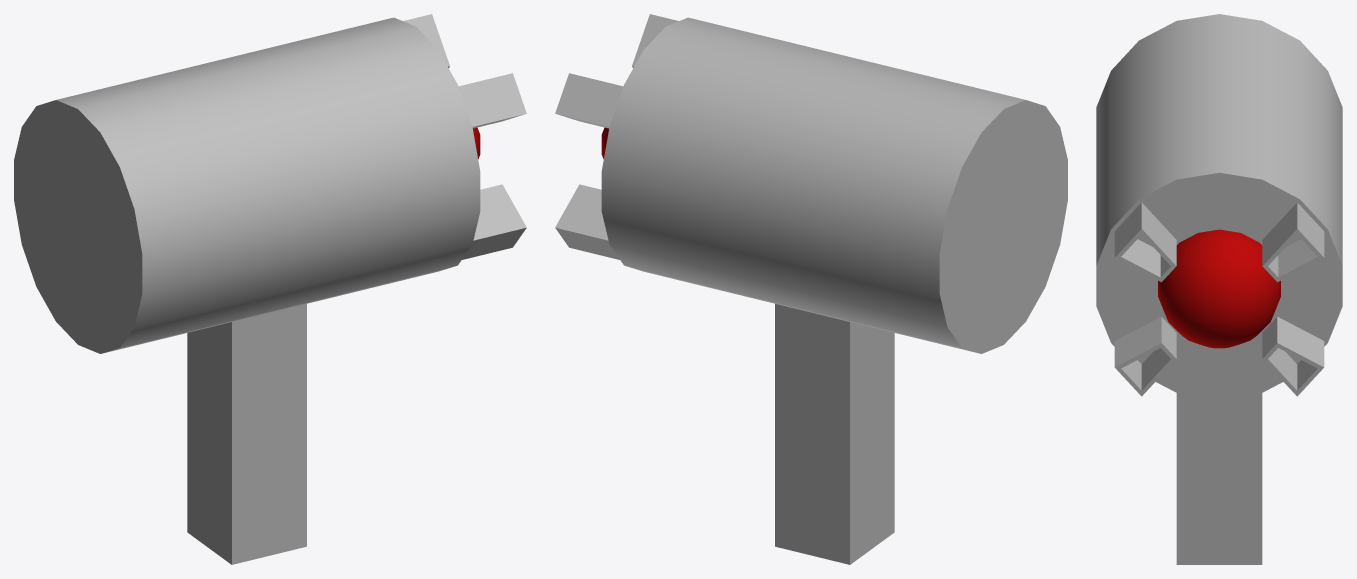
File: 220130_modelSoldier_001.fbx
The picture shows the model from 3 angles, left to right: view 1: azimuth 30°, elevation 25°; view 2: azimuth 150°, elevation 25°; view 3: azimuth 270°, elevation 25°; orthographic projection. The views are drawn at different scales.
Parts seen in each view (by area): view 1: soldierBody_001; view 2: soldierBody_001; view 3: soldierBody_001, sphereWeakPoint_001.
Part boxes in pixels (left/top/right/bottom): soldierBody_001: left=14, top=14, right=526, bottom=564; soldierBody_001: left=555, top=14, right=1067, bottom=564; soldierBody_001: left=1096, top=14, right=1342, bottom=564; sphereWeakPoint_001: left=1158, top=229, right=1280, bottom=348.
Bounding box in the file's own units: 105 × 120 × 59.09.
